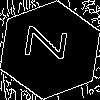Z: (25, 25, 78, 62)
